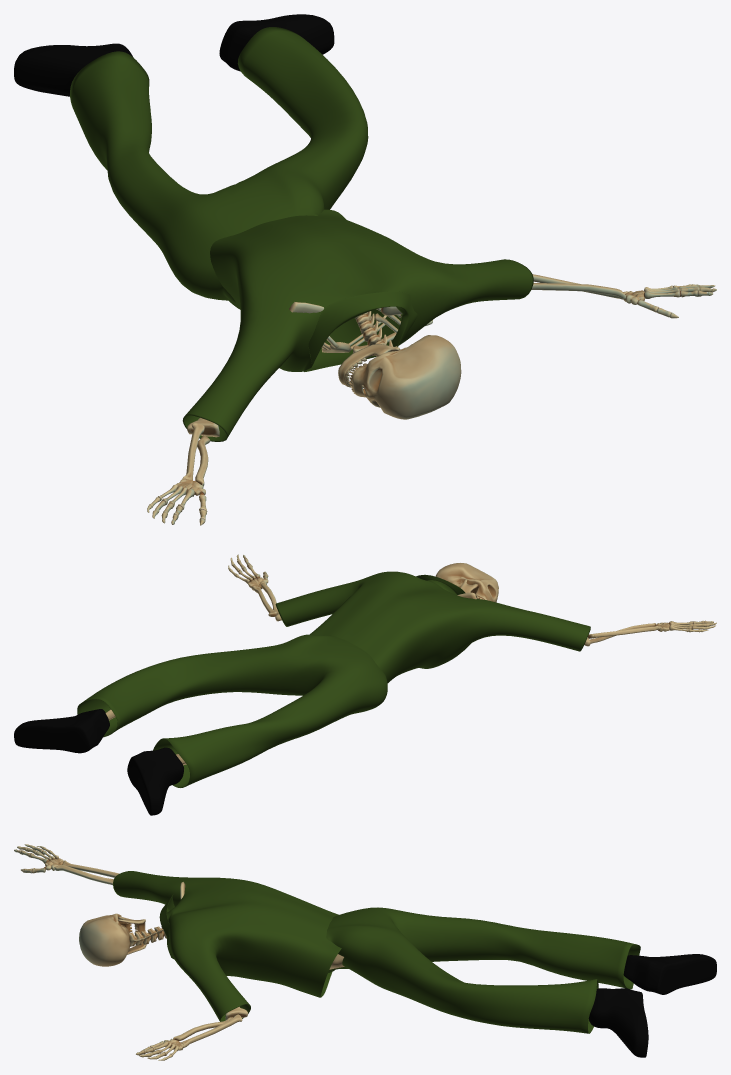
Rendered from Skeleton_poses_facedown.fbx.
3 renders of one model, top to bottom at view 1: azimuth 30°, elevation 25°; view 2: azimuth 150°, elevation 25°; view 3: azimuth 270°, elevation 25°, orthographic. The views are drawn at different scales.
Parts seen in each view (by area): view 1: Pants.004, Shirt3.004, SKELETON_LP.004, Boots.004; view 2: Pants.004, Shirt3.004, Boots.004, SKELETON_LP.004; view 3: Pants.004, Shirt3.004, SKELETON_LP.004, Boots.004.
Part boxes in pixels (x1,y1,x2,y2): Pants.004: (70, 27, 368, 302); Shirt3.004: (182, 209, 533, 441); SKELETON_LP.004: (147, 274, 716, 525); Boots.004: (14, 14, 334, 96); Pants.004: (77, 634, 387, 787); Shirt3.004: (275, 571, 590, 682); Boots.004: (14, 709, 183, 815); SKELETON_LP.004: (105, 554, 716, 765); Pants.004: (326, 907, 640, 1033); Shirt3.004: (113, 871, 341, 1021); SKELETON_LP.004: (14, 844, 344, 1060); Boots.004: (588, 954, 716, 1057).
Size of the model in its own units: 162 by 29.7 by 219.
